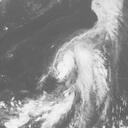cyclone: (50, 34, 108, 93)
